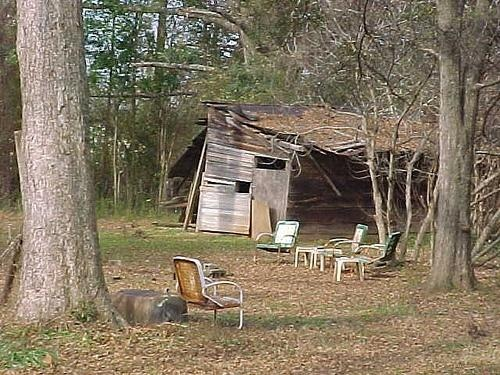chair: (171, 257, 246, 331), (323, 224, 369, 272), (352, 233, 402, 270), (257, 222, 298, 265)
